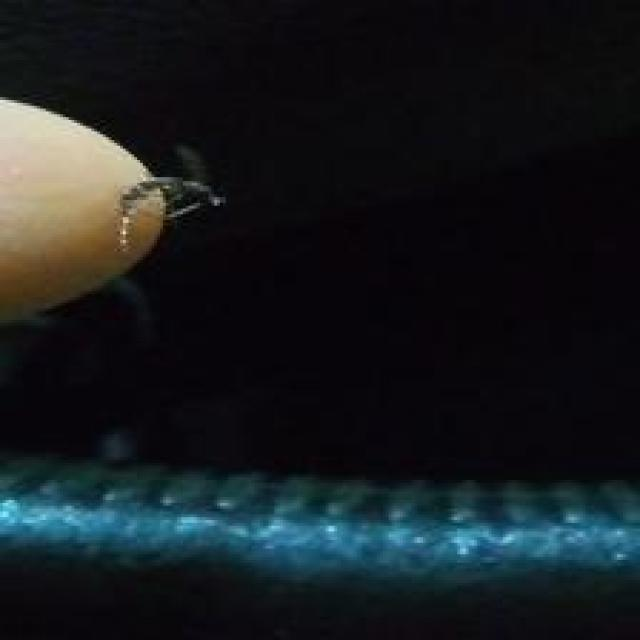Aedes albopictus: (0, 89, 226, 337)
